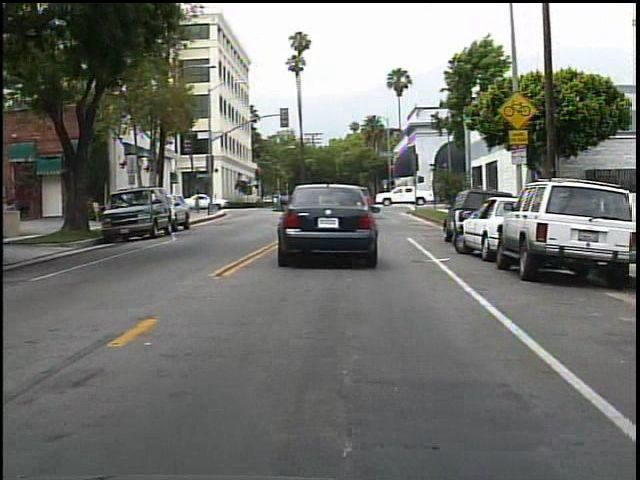person: (191, 191, 202, 218)
